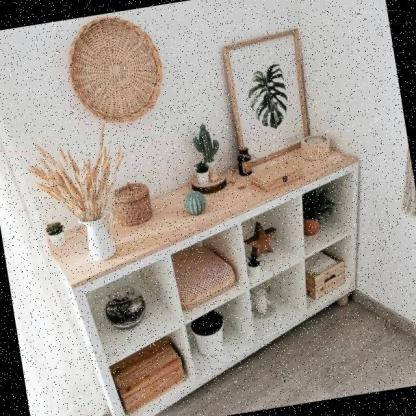Shelf: (48, 136, 397, 416)
